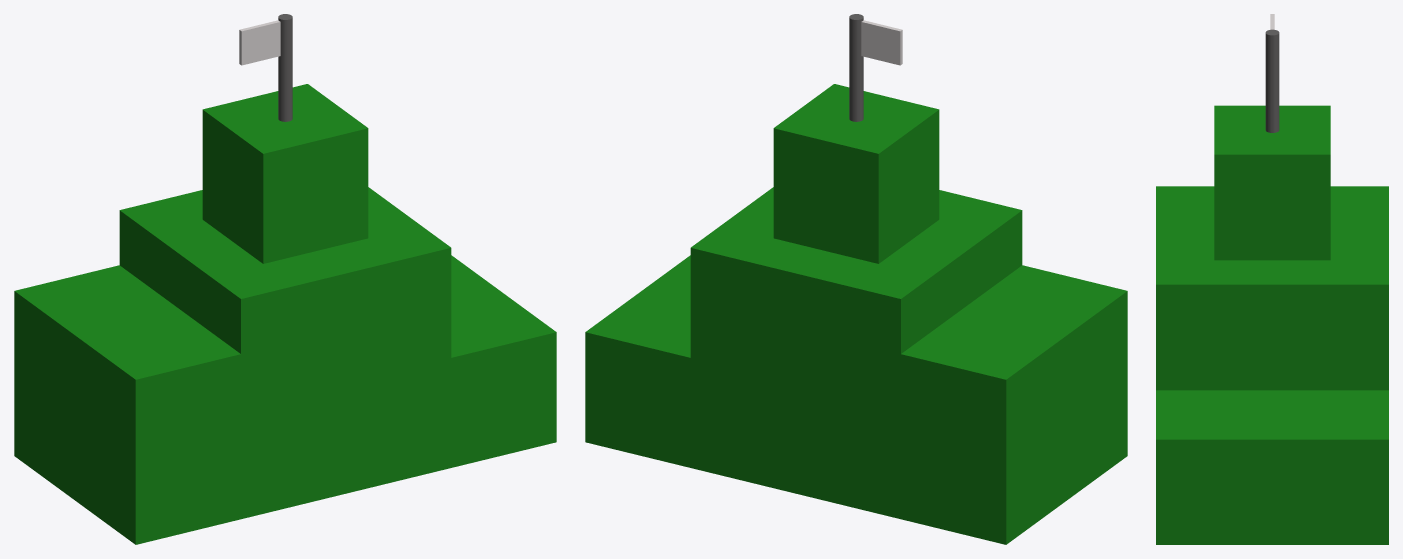
Rendered from PlayerBase.obj.
3 views of the same model, side by side, from view 1: azimuth 30°, elevation 25°; view 2: azimuth 150°, elevation 25°; view 3: azimuth 270°, elevation 25° (orthographic). The views are drawn at different scales.
Visible parts, largest first — view 1: 立方体; view 2: 立方体; view 3: 立方体.
Part boxes in pixels (bbox=[...]): 立方体: bbox=[14, 14, 556, 544]; 立方体: bbox=[585, 14, 1127, 544]; 立方体: bbox=[1156, 14, 1388, 544].
Size of the model in its own units: 4 by 3.92 by 2.
Materials: 1 (1 with a texture image).
